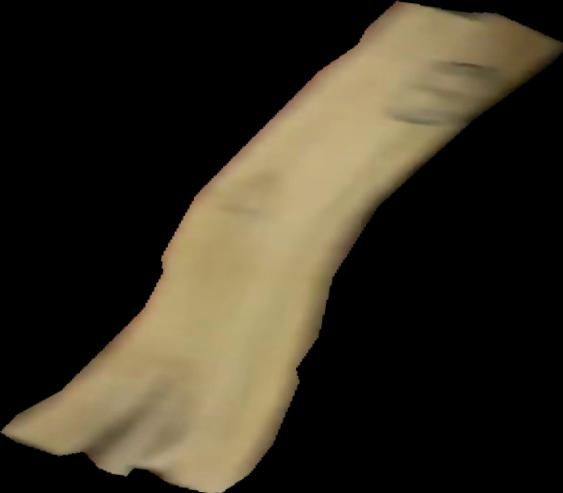backward: (1, 1, 563, 493)
